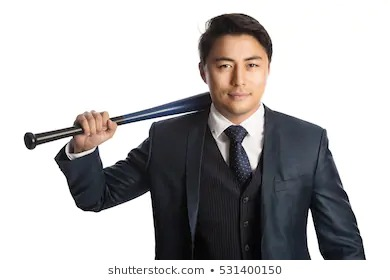F_M_suit jacket: (52, 101, 368, 259)
